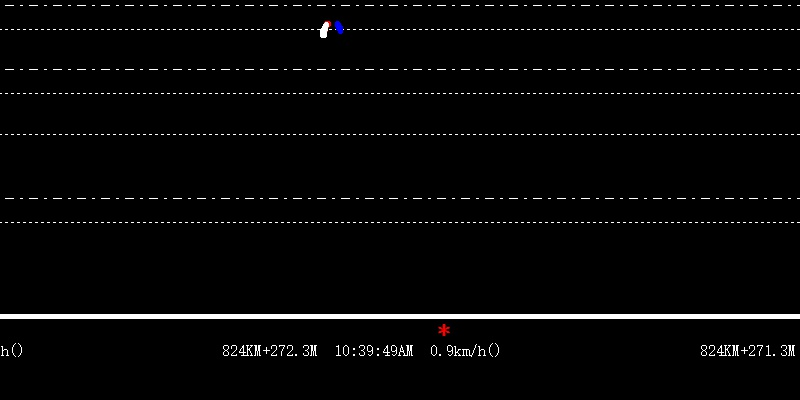face_1: (334, 20, 346, 35)
face_s: (316, 18, 331, 39)
star: (434, 322, 450, 337)
